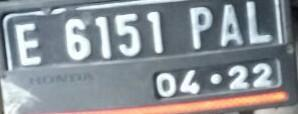1: (140, 9, 173, 56), (86, 14, 114, 62)
5: (108, 12, 146, 58)
6: (59, 16, 98, 60)
A: (216, 2, 250, 48)
E: (7, 16, 52, 70)
L: (244, 0, 276, 46)
P: (182, 4, 216, 51)
